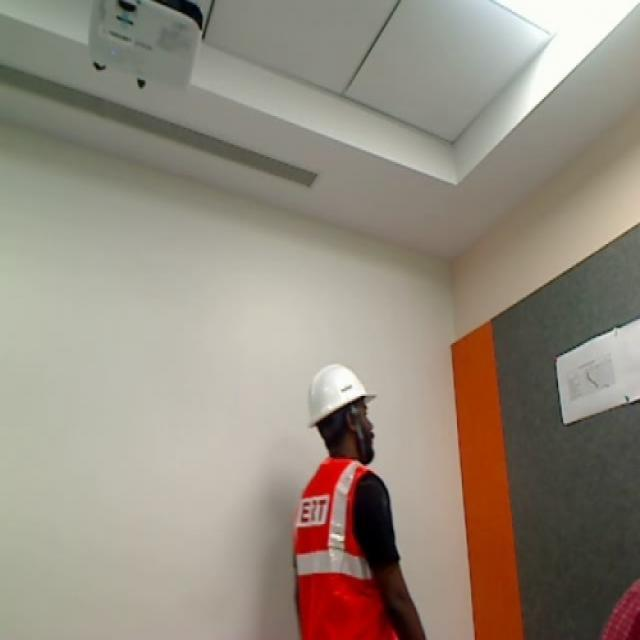safety_helmet: (290, 454, 406, 640)
